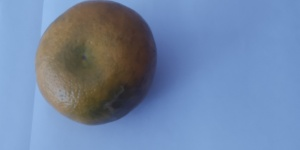BAD: (32, 1, 157, 125)
